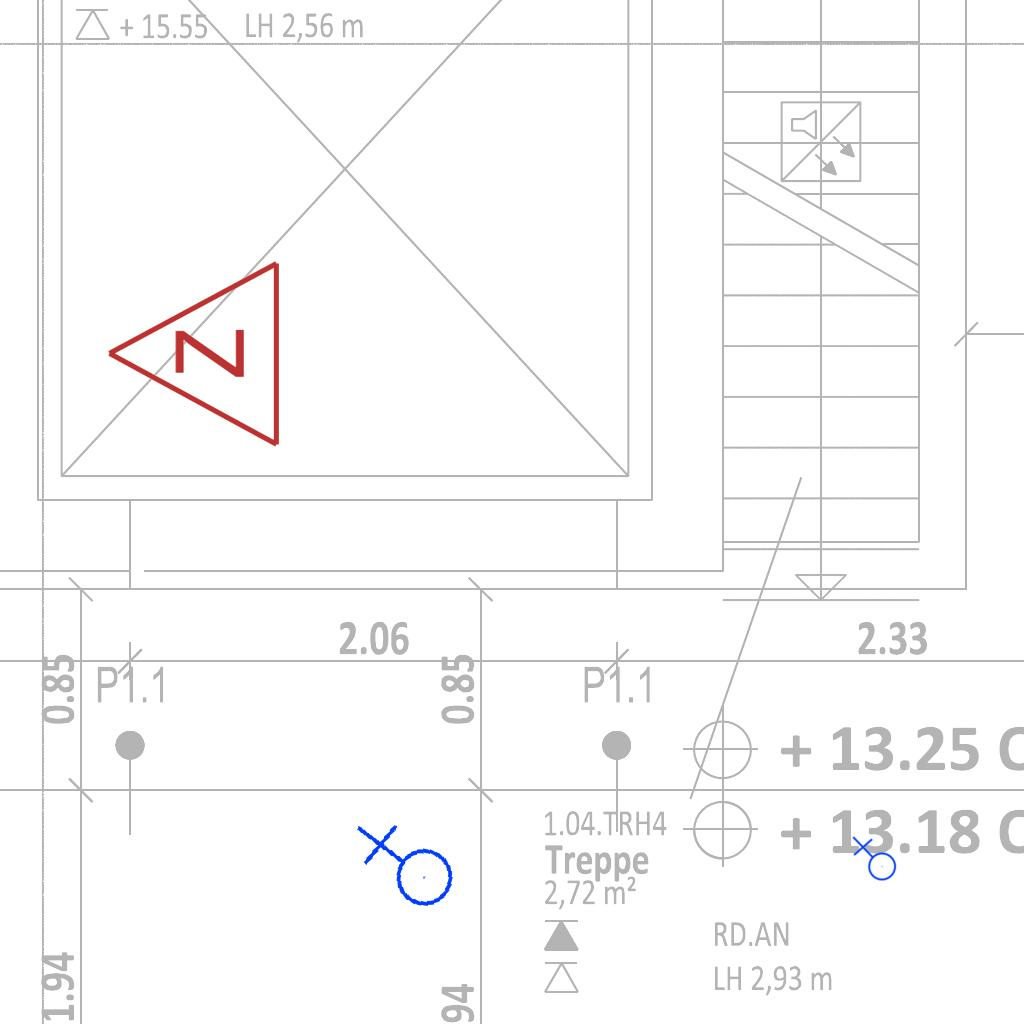Elektroanschluss_allgemein_230V_Geraeteanschlussdose_230V: (351, 811, 460, 925), (850, 836, 897, 885)
Zimmersignalleuchte: (94, 258, 294, 454)
